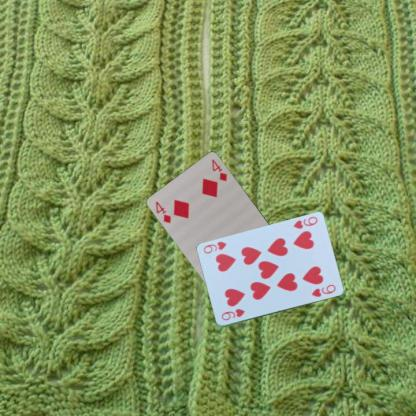4d: (153, 199, 172, 225)
9h: (219, 306, 246, 322), (291, 214, 318, 230)
